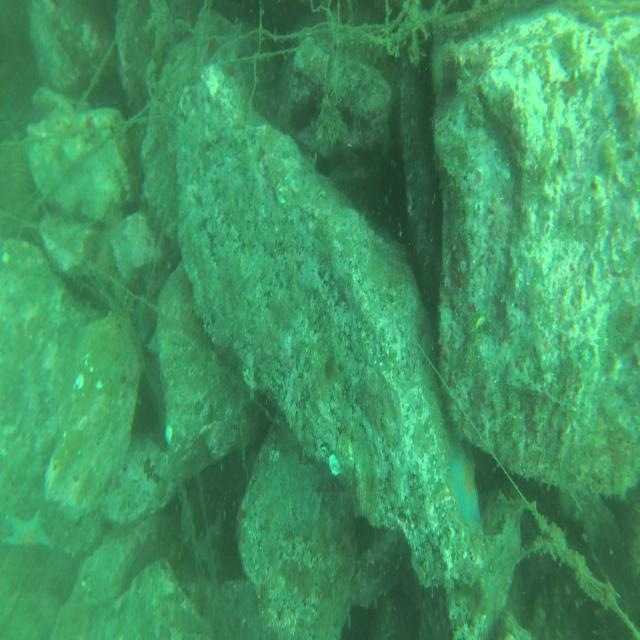starfish: (443, 439, 485, 530), (130, 285, 158, 342)
